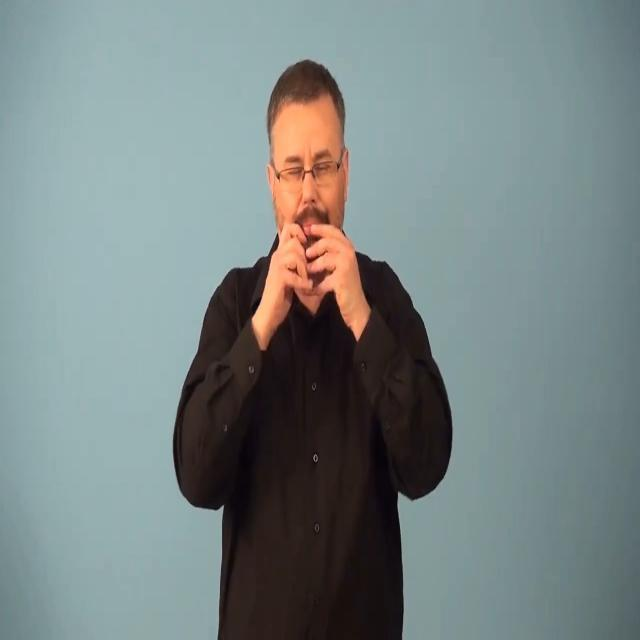juicy: (257, 205, 367, 356)
